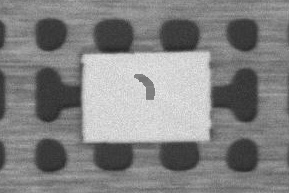DIE_INK: (130, 72, 155, 99)
